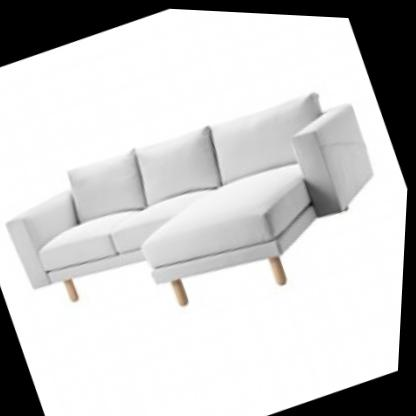Sofa: (0, 17, 415, 386)
